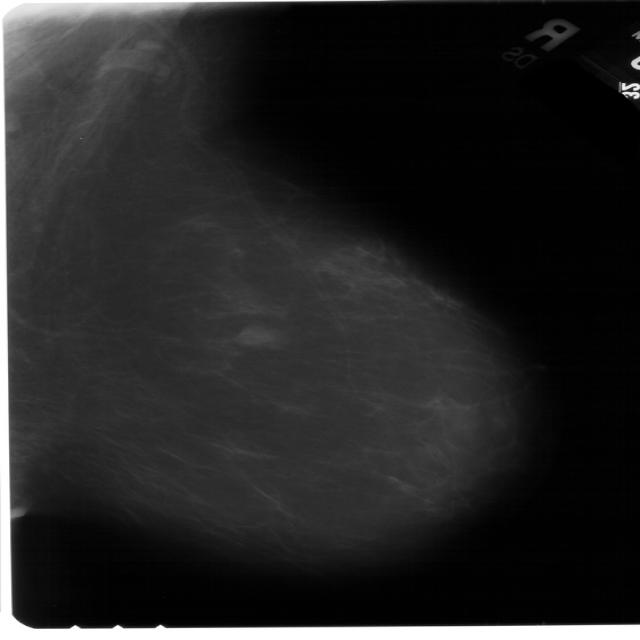tumour: (232, 323, 272, 345)
